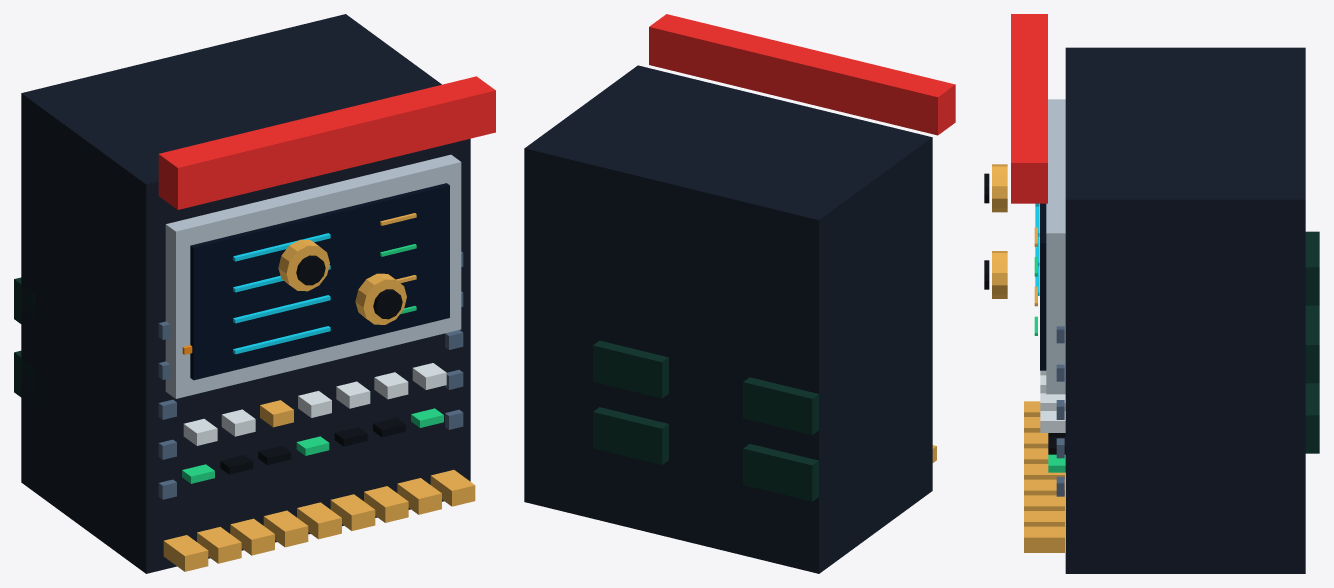
Rendered from 92_L91_W163CriticalTimePatchStation.fbx.
3 views of the same model, side by side, from view 1: azimuth 30°, elevation 25°; view 2: azimuth 150°, elevation 25°; view 3: azimuth 270°, elevation 25° (orthographic). The views are drawn at different scales.
Visible parts, largest first — view 1: L91_W163CriticalTimePatchStation, L91_W163CriticalTimePatchStation_Part_0014, L91_W163CriticalTimePatchStation_Part_0012, L91_W163CriticalTimePatchStation_Part_0013, L91_W163CriticalTimePatchStation_Part_0015; view 2: L91_W163CriticalTimePatchStation; view 3: L91_W163CriticalTimePatchStation, L91_W163CriticalTimePatchStation_Part_0012, L91_W163CriticalTimePatchStation_Part_0014.
Boxes of the visible parts, x1,y1,x2,y2 form: L91_W163CriticalTimePatchStation: (14, 14, 495, 573); L91_W163CriticalTimePatchStation_Part_0014: (355, 273, 406, 324); L91_W163CriticalTimePatchStation_Part_0012: (278, 239, 329, 291); L91_W163CriticalTimePatchStation_Part_0013: (296, 255, 325, 285); L91_W163CriticalTimePatchStation_Part_0015: (373, 289, 402, 319); L91_W163CriticalTimePatchStation: (524, 14, 955, 573); L91_W163CriticalTimePatchStation: (1011, 14, 1319, 573); L91_W163CriticalTimePatchStation_Part_0012: (992, 164, 1007, 212); L91_W163CriticalTimePatchStation_Part_0014: (992, 251, 1007, 298).
Bounding box in the file's own units: 96.9 × 122 × 90.3.
